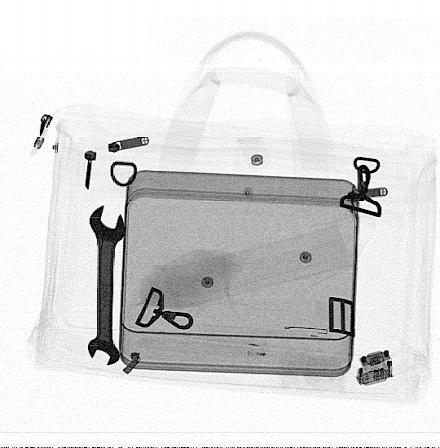Wrench: (86, 203, 129, 369)
